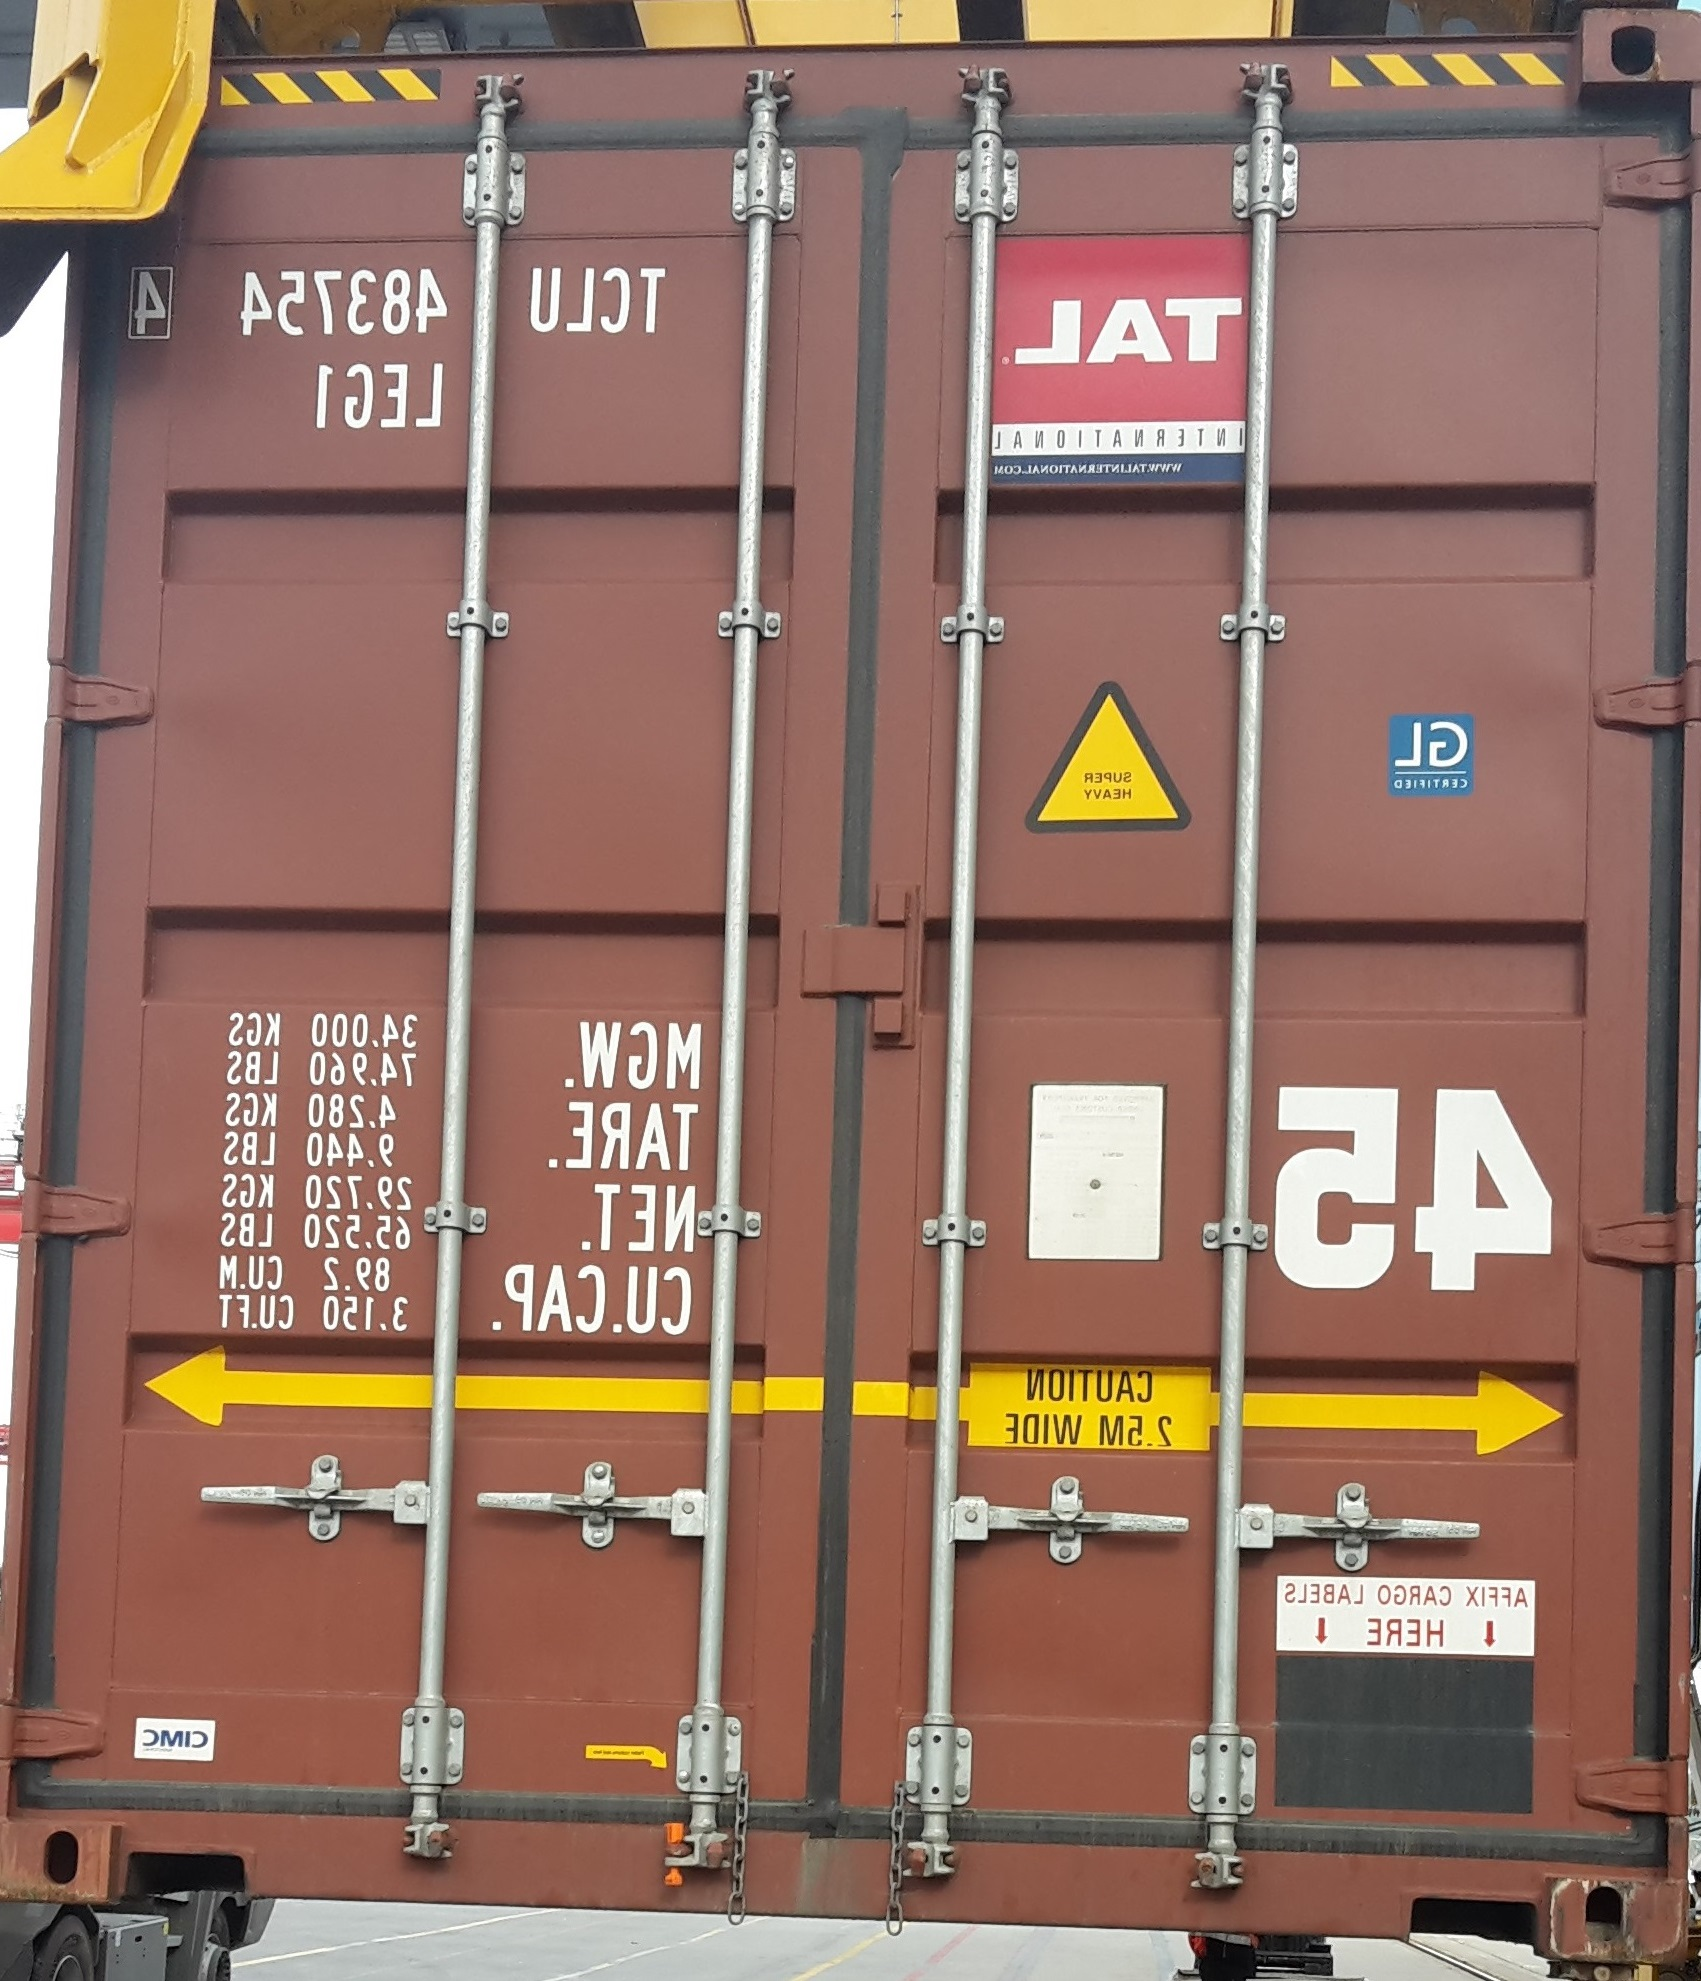container_door: (17, 2, 1682, 1900)
